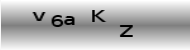6: (49, 13, 64, 28)
K: (90, 9, 106, 23)
Z: (119, 24, 134, 38)
a: (63, 15, 76, 27)
v: (32, 10, 46, 22)
